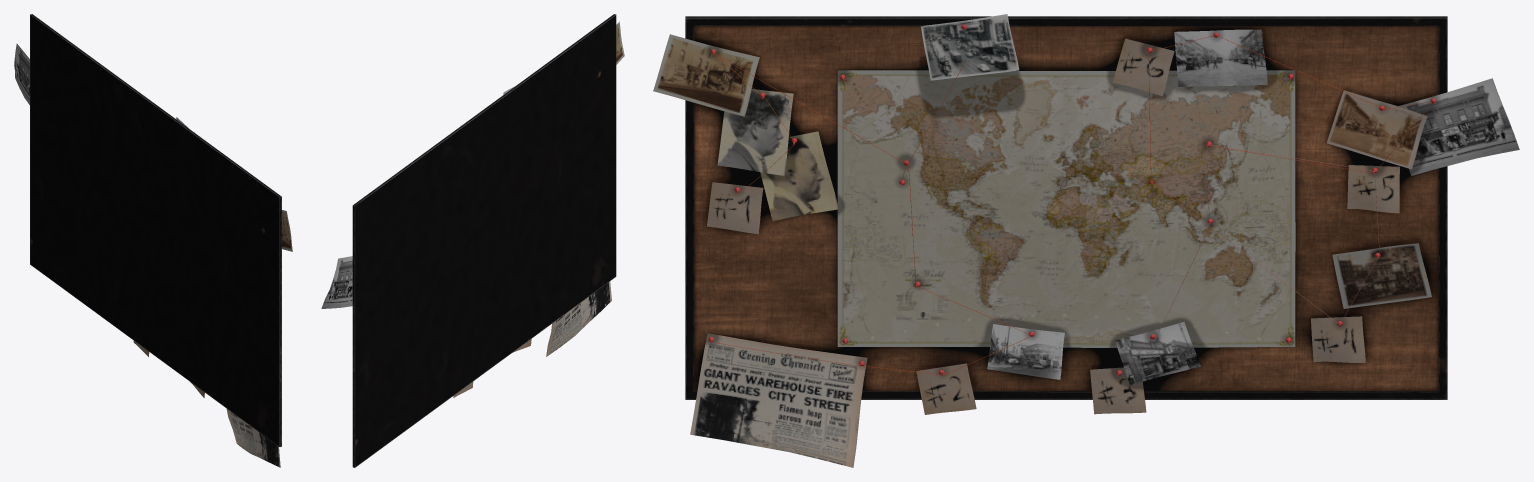
Rendered from board_background.glb.
The picture shows the model from 3 angles, left to right: view 1: azimuth 30°, elevation 25°; view 2: azimuth 150°, elevation 25°; view 3: azimuth 270°, elevation 25°; orthographic projection. The views are drawn at different scales.
Visible parts, largest first — view 1: Cube.099__0, Plane.062__0, Plane.070__0, Plane.067__0; view 2: Cube.099__0, Plane.062__0, Plane.070__0; view 3: Plane.058__0, Cube.099__0, Plane.062__0, Plane.070__0, Plane.067__0, Plane.061__0, Plane.069__0, Plane.072__0, Plane.071__0, Plane.059__0, Plane.060__0, Plane.066__0 (+7 smaller).
Boxes of the visible parts, x1,y1,x2,y2 form: Cube.099__0: [30, 14, 281, 446]; Plane.062__0: [226, 409, 280, 467]; Plane.070__0: [14, 43, 29, 104]; Plane.067__0: [282, 210, 292, 251]; Cube.099__0: [352, 14, 616, 467]; Plane.062__0: [546, 281, 611, 356]; Plane.070__0: [321, 256, 352, 308]; Plane.058__0: [837, 70, 1295, 347]; Cube.099__0: [685, 16, 1447, 399]; Plane.062__0: [690, 333, 867, 467]; Plane.070__0: [1398, 78, 1519, 175]; Plane.067__0: [653, 34, 759, 116]; Plane.061__0: [920, 14, 1019, 80]; Plane.069__0: [1326, 90, 1427, 169]; Plane.072__0: [1174, 29, 1267, 86]; Plane.071__0: [1332, 243, 1431, 308]; Plane.059__0: [717, 89, 793, 175]; Plane.060__0: [760, 131, 838, 221]; Plane.066__0: [1115, 322, 1200, 385].
Bounding box in the file's own units: 0.059 × 1.36 × 2.4.
Materials: 1 (1 with a texture image).
